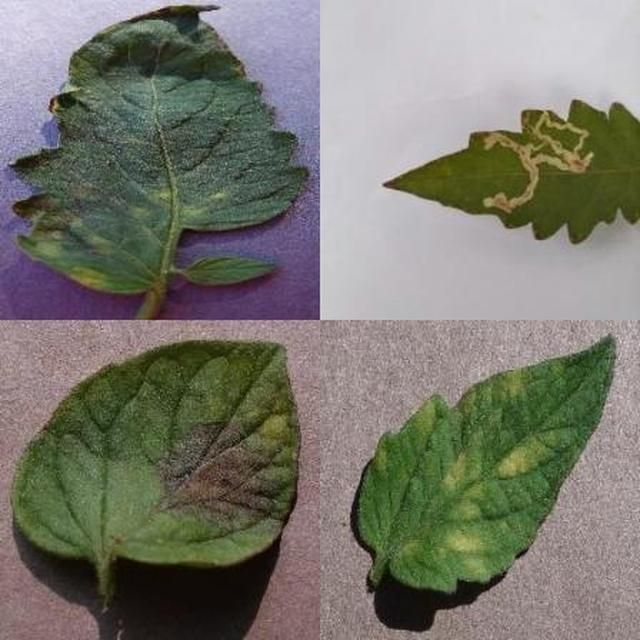Leaf Mold: (221, 212, 640, 640)
